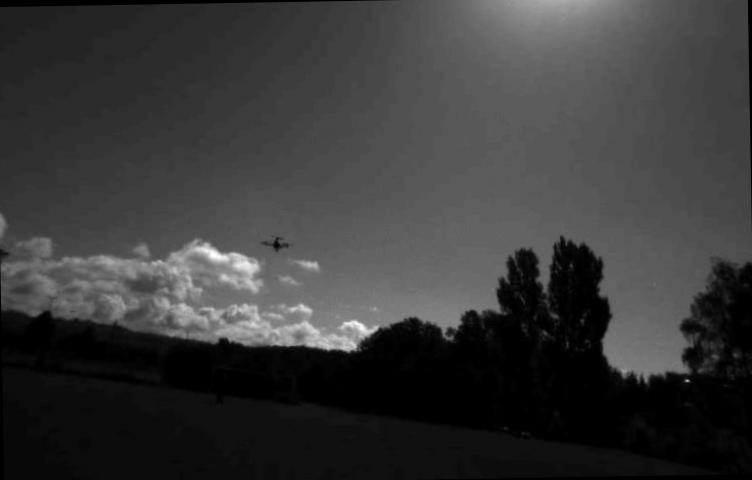drone: (259, 230, 291, 253)
